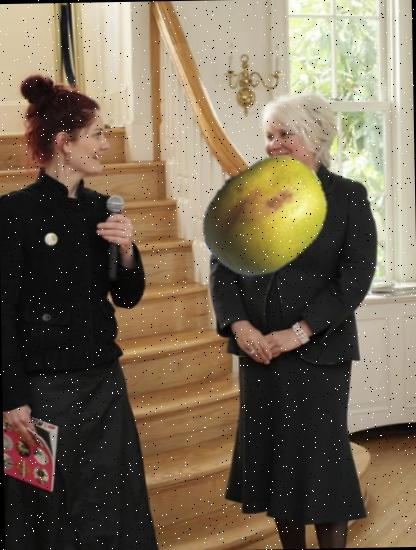Pomelo: (198, 150, 332, 284)
